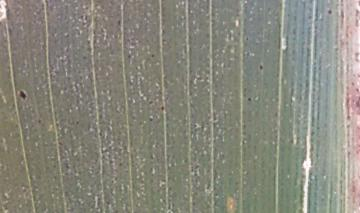tarspot: (16, 83, 32, 104), (159, 103, 168, 116), (255, 62, 266, 72), (245, 94, 255, 104), (325, 5, 334, 16)
